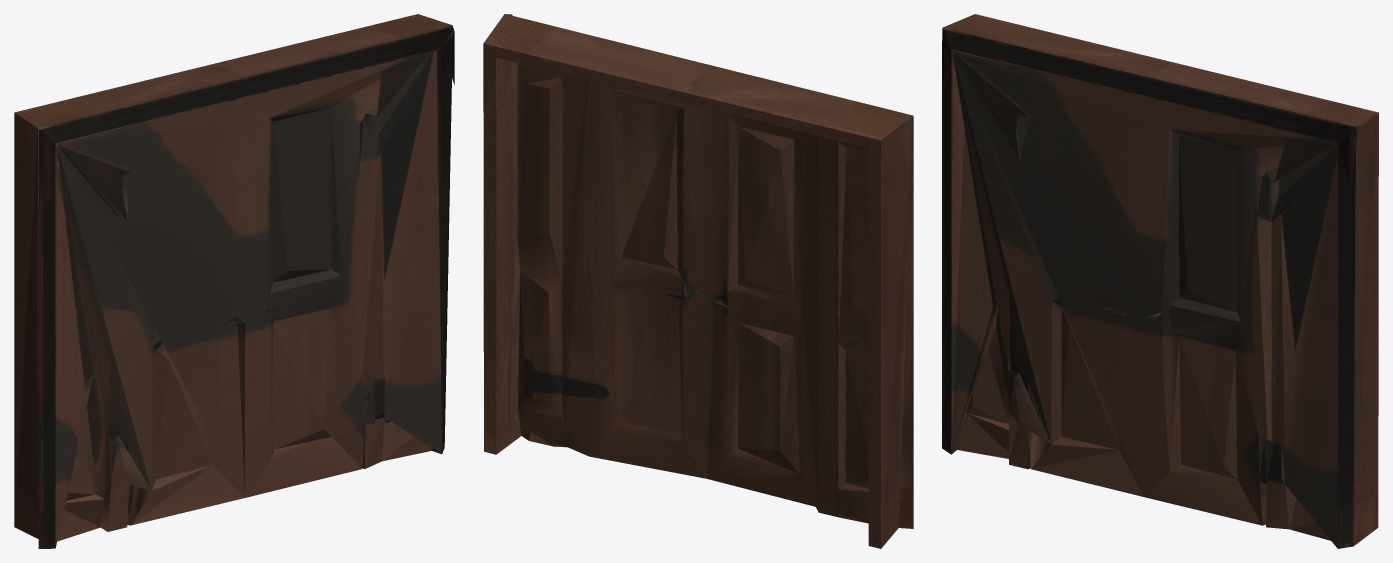
The model's file is ENV_Door.fbx.
3 views of the same model, side by side, from view 1: azimuth 30°, elevation 25°; view 2: azimuth 150°, elevation 25°; view 3: azimuth 330°, elevation 25° (orthographic).
Parts seen in each view (by area): view 1: Mesh_0; view 2: Mesh_0; view 3: Mesh_0.
Boxes of the visible parts, x1=… form: Mesh_0: x1=14, y1=14, x2=454, y2=548; Mesh_0: x1=483, y1=14, x2=913, y2=548; Mesh_0: x1=942, y1=14, x2=1378, y2=548.
Bounding box in the file's own units: 189 × 184 × 31.93.
1 material, 1 textured.
